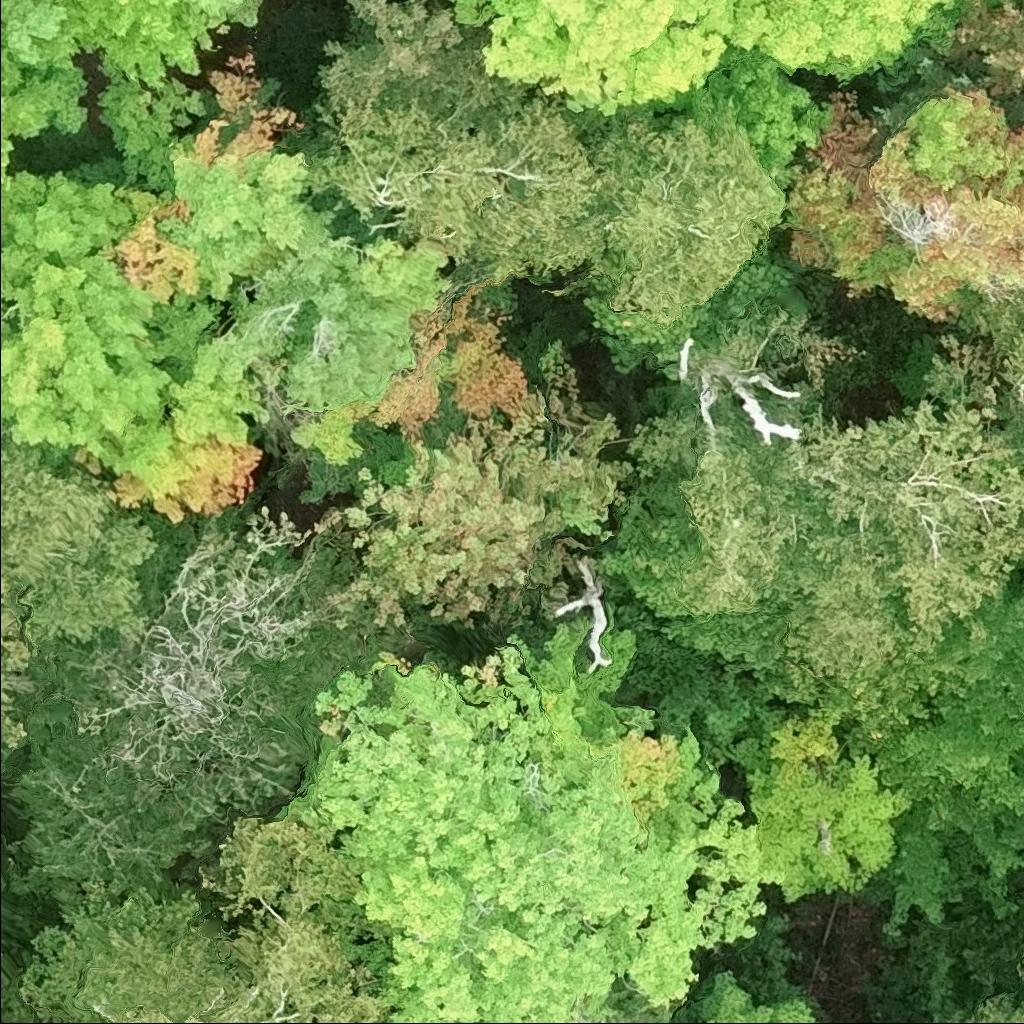crown: (287, 615, 787, 1023), (665, 398, 1023, 683), (0, 157, 272, 525), (323, 408, 630, 628), (95, 45, 339, 305), (843, 587, 1023, 938), (781, 83, 1023, 326), (307, 94, 609, 283), (225, 232, 452, 462), (0, 424, 159, 750), (588, 87, 788, 327), (430, 0, 780, 121), (202, 807, 392, 1023), (18, 876, 296, 1023), (743, 706, 912, 904), (374, 273, 553, 444), (581, 237, 798, 375), (708, 46, 836, 194), (755, 0, 969, 83), (33, 0, 223, 88), (314, 0, 469, 104), (0, 0, 92, 141), (670, 951, 844, 1023), (955, 290, 1023, 443), (943, 0, 1023, 99), (551, 559, 613, 669), (932, 986, 1023, 1023), (199, 0, 264, 30), (0, 97, 15, 183), (1012, 941, 1023, 981), (598, 1015, 612, 1023), (576, 1017, 594, 1023), (991, 0, 1003, 5), (0, 41, 3, 59), (1022, 590, 1023, 601), (1015, 0, 1020, 1)
